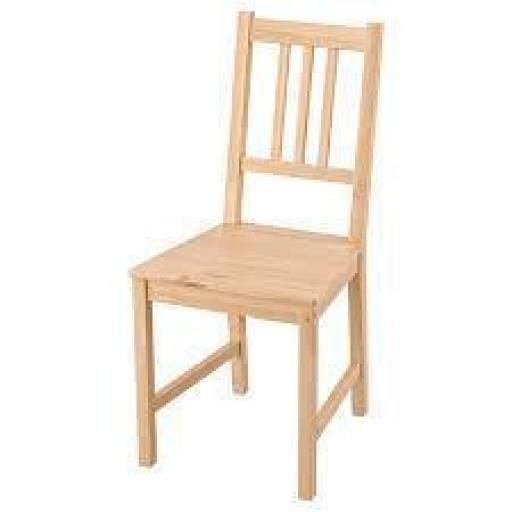chair: (125, 4, 385, 508)
